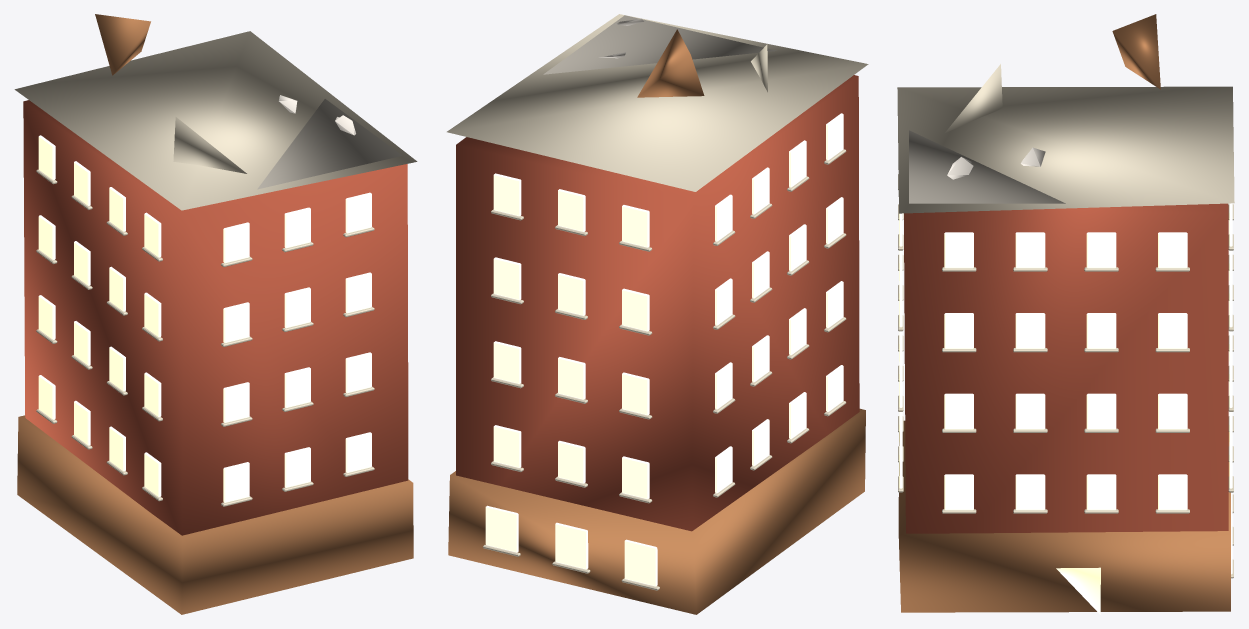
File: apartment.glb
The picture shows the model from 3 angles, left to right: view 1: azimuth 30°, elevation 25°; view 2: azimuth 150°, elevation 25°; view 3: azimuth 270°, elevation 25°; orthographic projection. The views are drawn at different scales.
Visible parts, largest first — view 1: apartment; view 2: apartment; view 3: apartment.
Part boxes in pixels (bbox=[...]): apartment: bbox=[14, 14, 417, 614]; apartment: bbox=[447, 14, 868, 614]; apartment: bbox=[897, 14, 1234, 614].
Bounding box in the file's own units: 9.39 × 18.75 × 11.36.
Materials: 1 (1 with a texture image).
